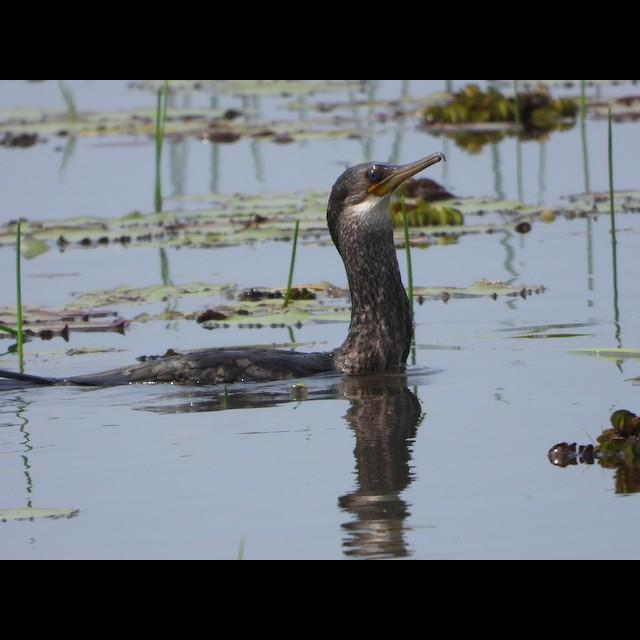cormorant: (9, 149, 454, 399)
